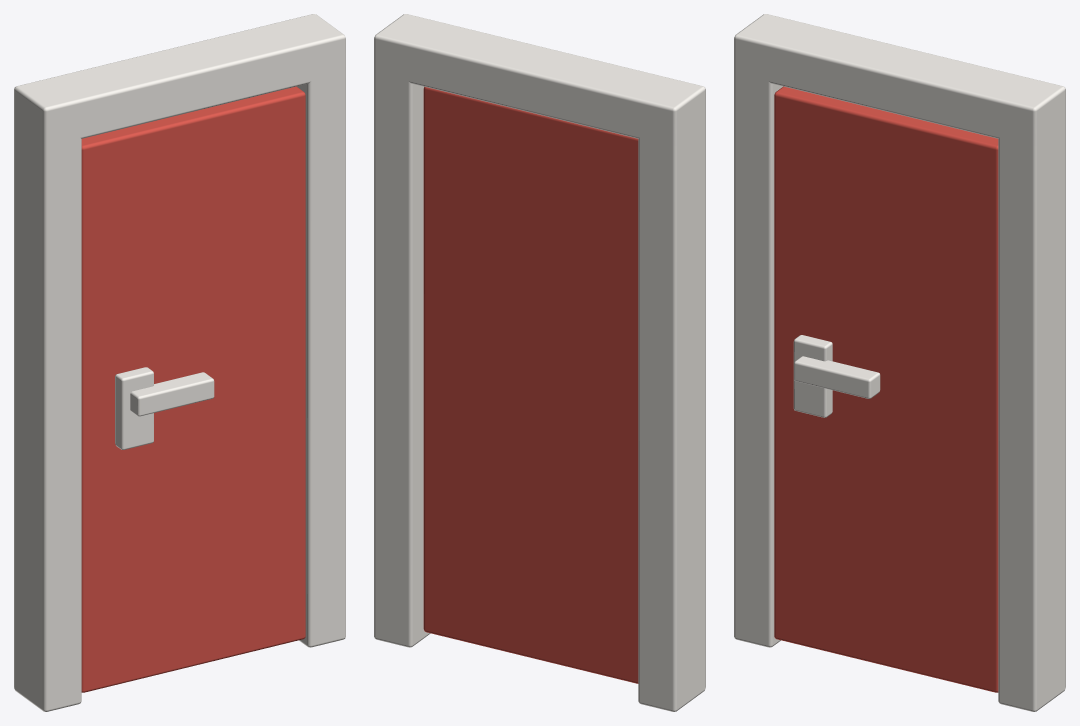
Rendered from school-door.glb.
The picture shows the model from 3 angles, left to right: view 1: azimuth 30°, elevation 25°; view 2: azimuth 150°, elevation 25°; view 3: azimuth 330°, elevation 25°; orthographic projection.
Visible parts, largest first — view 1: door, frame-left, frame-right, frame-top, handle-base, handle; view 2: door, frame-left, frame-right, frame-top; view 3: door, frame-right, frame-left, frame-top, handle, handle-base.
Part boxes in pixels (left/top/right/bottom): door: left=81, top=86, right=305, bottom=692; frame-left: left=14, top=118, right=81, bottom=711; frame-right: left=297, top=67, right=345, bottom=647; frame-top: left=14, top=14, right=345, bottom=145; handle-base: left=115, top=367, right=153, bottom=449; handle: left=130, top=372, right=214, bottom=416; door: left=423, top=86, right=638, bottom=683; frame-left: left=638, top=120, right=705, bottom=711; frame-right: left=374, top=68, right=430, bottom=647; frame-top: left=374, top=14, right=705, bottom=145; door: left=774, top=86, right=998, bottom=692; frame-right: left=998, top=120, right=1065, bottom=711; frame-left: left=734, top=67, right=782, bottom=647; frame-top: left=734, top=14, right=1065, bottom=145; handle: left=794, top=356, right=880, bottom=398; handle-base: left=793, top=335, right=832, bottom=417.
Bounding box in the file's own units: 1.1 × 2.1 × 0.305.
